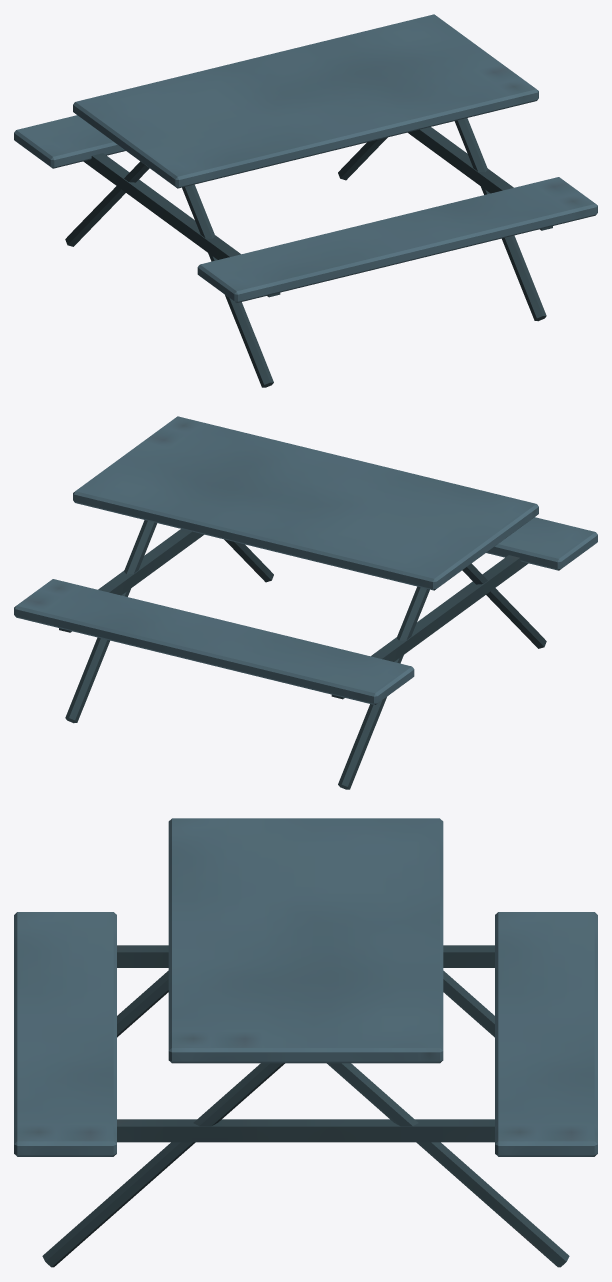
Rendered from yard_table.fbx.
3 views of the same model, one above another, from view 1: azimuth 30°, elevation 25°; view 2: azimuth 150°, elevation 25°; view 3: azimuth 270°, elevation 25° (orthographic). The views are drawn at different scales.
Parts seen in each view (by area): view 1: yard_table; view 2: yard_table; view 3: yard_table.
Part boxes in pixels (x1,y1,x2,y2): yard_table: [14, 14, 597, 387]; yard_table: [14, 416, 597, 789]; yard_table: [14, 818, 597, 1267].
Size of the model in its own units: 1.6 by 0.7929 by 1.7.
Materials: 1 (1 with a texture image).
